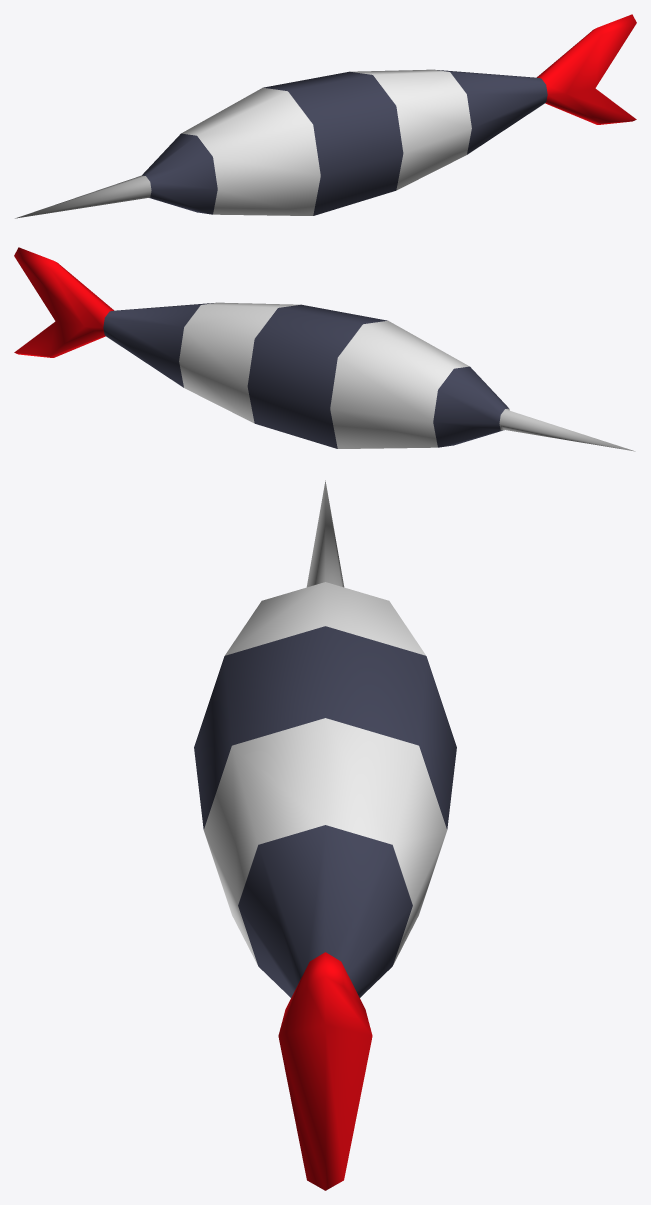
The model's file is Dart.glb.
3 views of the same model, one above another, from view 1: azimuth 30°, elevation 25°; view 2: azimuth 150°, elevation 25°; view 3: azimuth 270°, elevation 25° (orthographic). The views are drawn at different scales.
Visible parts, largest first — view 1: Cube; view 2: Cube; view 3: Cube.
Boxes of the visible parts, x1,y1,x2,y2 form: Cube: [15, 14, 636, 218]; Cube: [14, 247, 635, 451]; Cube: [194, 480, 456, 1190].
Bounding box in the file's own units: 0.1499 × 0.0281 × 0.0276.
